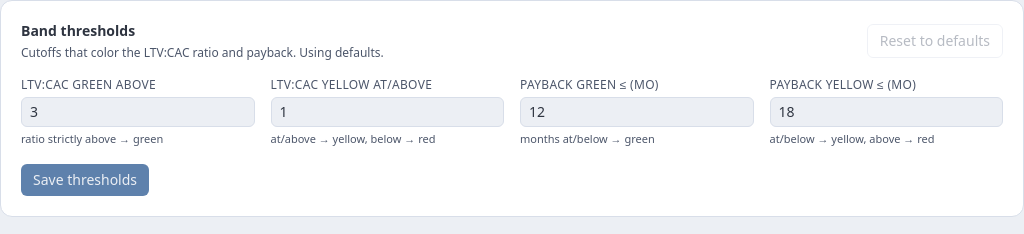
Test case: ThresholdSettings save reporting (CTO-393) › surfaces an unreachable control plane rather than setting 'saved'
The width and height of the screenshot is (1024, 234).
What coordinates should you click on to do the following:
click the button "Save thresholds"
I would click on:
 (85, 180)
Its box is [21,164,149,196].
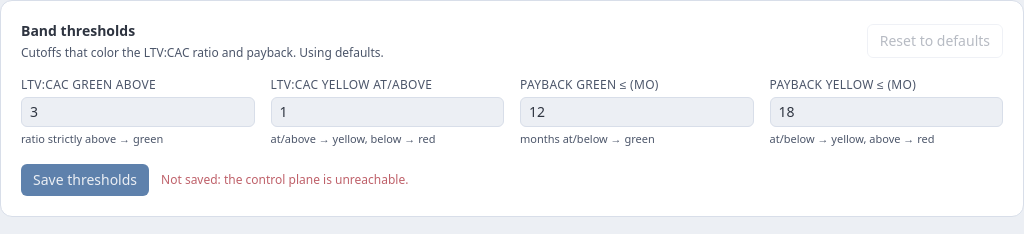
Result: the text "Not saved: the control plane is unreachable." is shown at [161,172,408,188]
